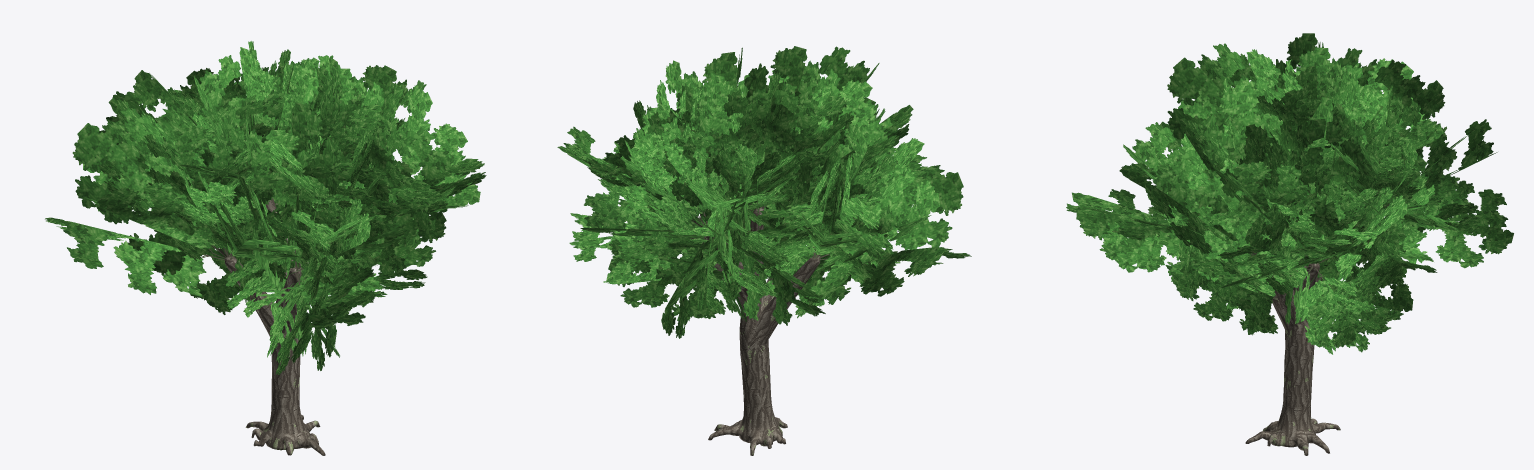
File: environment_elm4_v57.fbx
3 views of the same model, side by side, from view 1: azimuth 30°, elevation 25°; view 2: azimuth 150°, elevation 25°; view 3: azimuth 270°, elevation 25° (orthographic). The views are drawn at different scales.
Parts seen in each view (by area): view 1: environment_elm4_v57_lod0; view 2: environment_elm4_v57_lod0; view 3: environment_elm4_v57_lod0.
Part boxes in pixels (x1,y1,x2,y2): environment_elm4_v57_lod0: (45, 41, 486, 455); environment_elm4_v57_lod0: (557, 46, 971, 455); environment_elm4_v57_lod0: (1066, 33, 1513, 455).
Size of what is drawn, in the model's own units: 2637 by 2461 by 2676.
2 materials, 2 textured.
